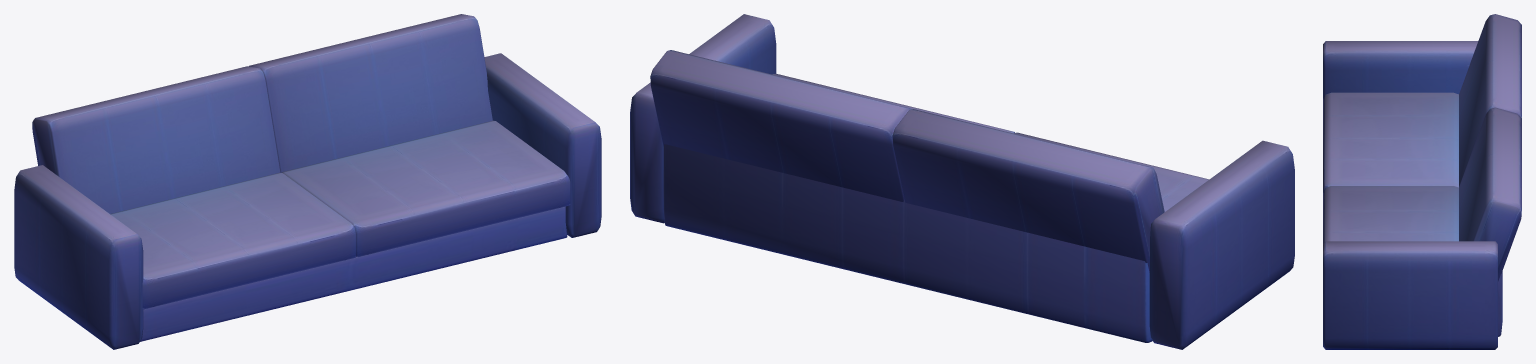
The model's file is M_SofaBesar.fbx.
3 views of the same model, side by side, from view 1: azimuth 30°, elevation 25°; view 2: azimuth 150°, elevation 25°; view 3: azimuth 270°, elevation 25° (orthographic). The views are drawn at different scales.
Visible parts, largest first — view 1: SofaBesar; view 2: SofaBesar; view 3: SofaBesar.
Part boxes in pixels (x1=…): SofaBesar: x1=14, y1=14, x2=601, y2=349; SofaBesar: x1=630, y1=14, x2=1294, y2=349; SofaBesar: x1=1323, y1=14, x2=1521, y2=349.
Bounding box in the file's own units: 312 × 92.72 × 122.
